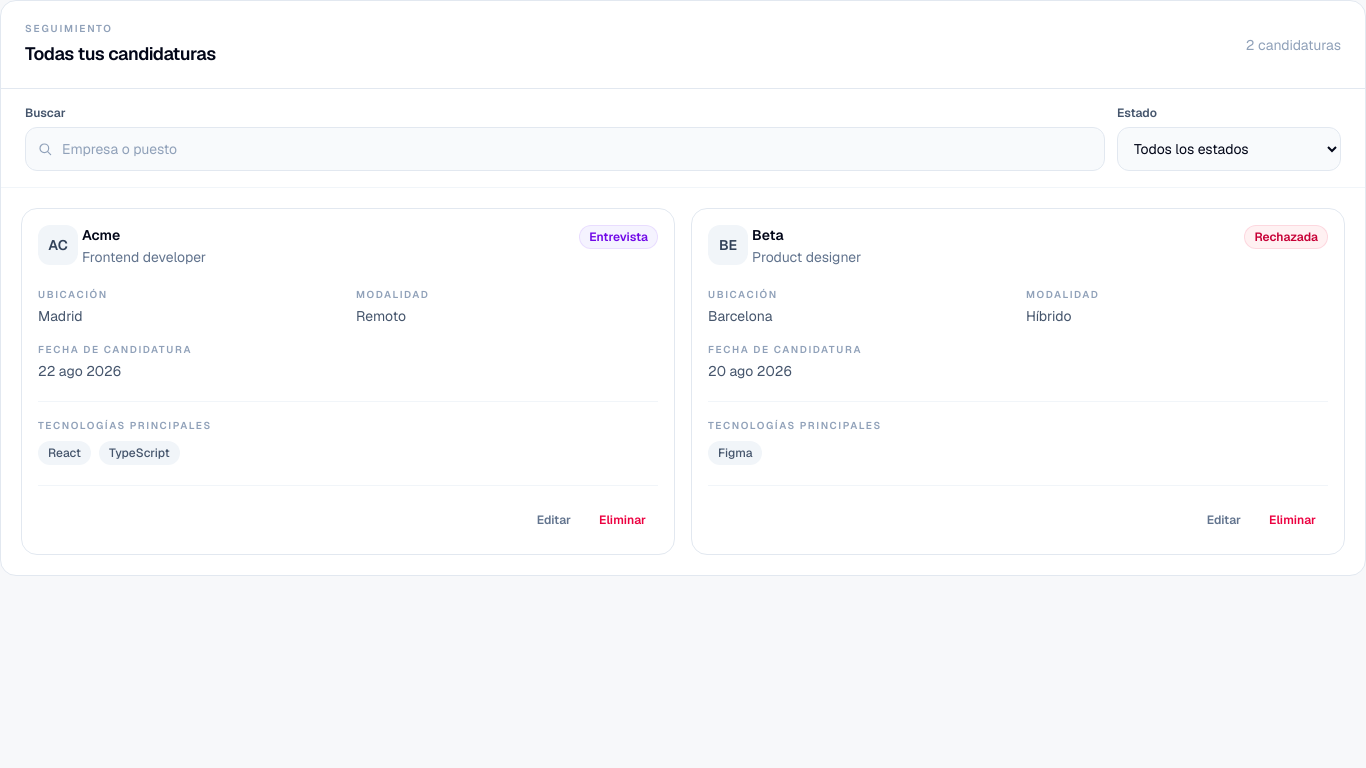
Test case: ApplicationsList › filtra por estado y muestra el estado vacío
Select "Oferta" in the dropdown named "Filtrar por estado" at coordinates (1229, 149), box [1117, 127, 1341, 171]
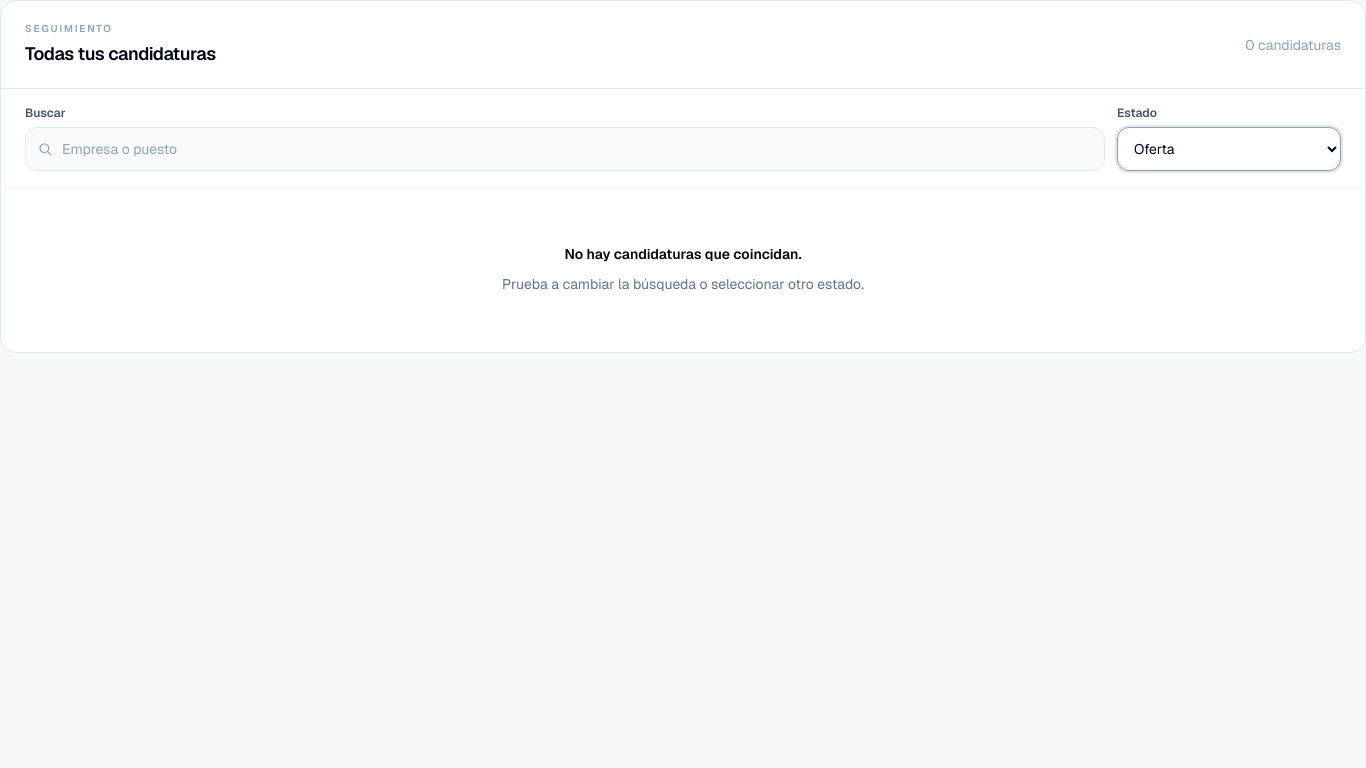
Check: the text "No hay candidaturas que coincidan." is shown, box [564, 245, 802, 263]
Check: the heading "Acme" is gone
Check: the heading "Beta" is gone
